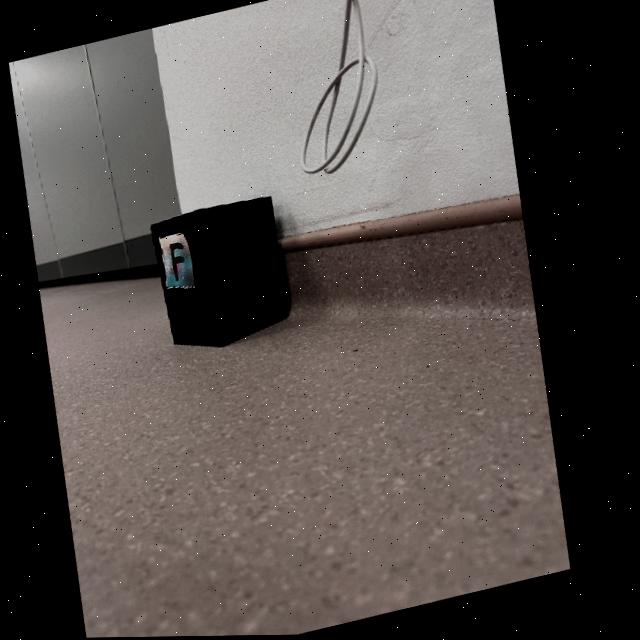F: (175, 243, 189, 281)
